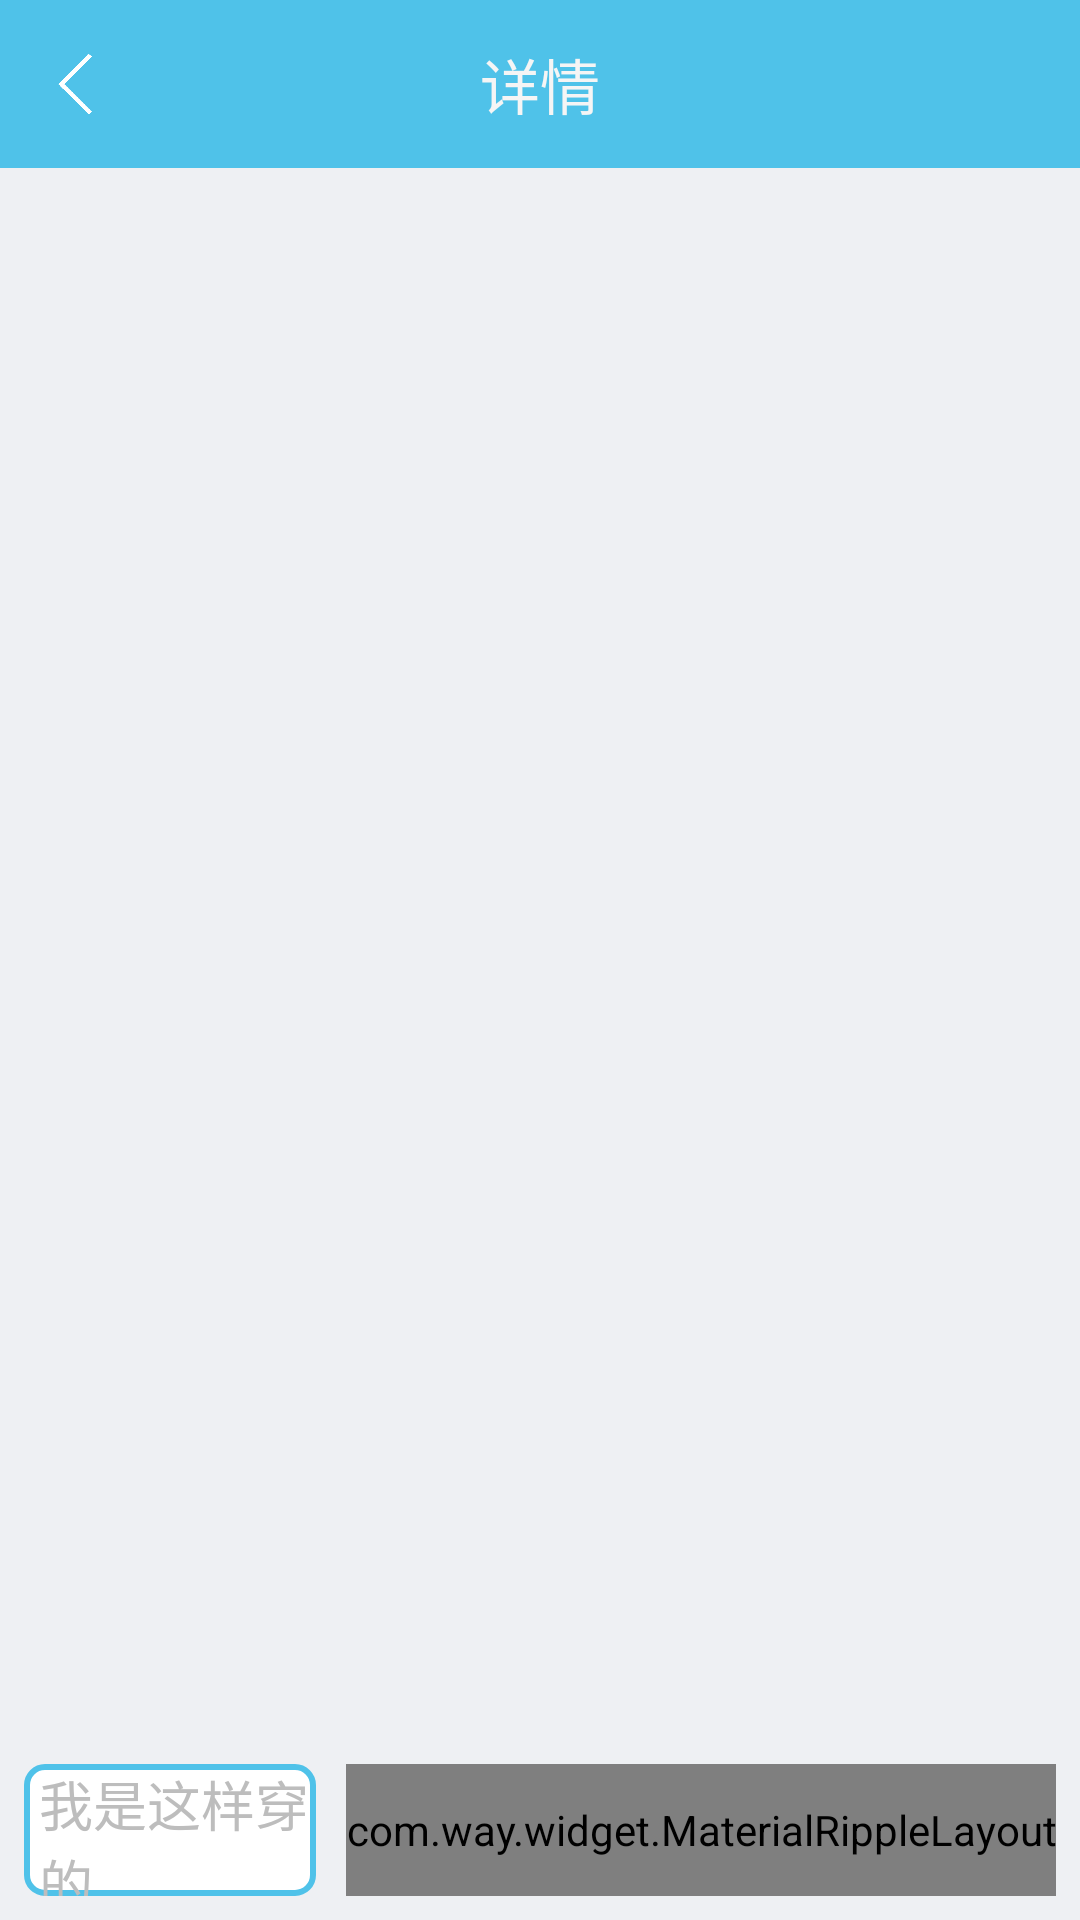

Locate icon controls on the screen. Image size 1080x1920, boxes as (x1, y1, x2, y2).
back: (58, 54, 92, 114)
